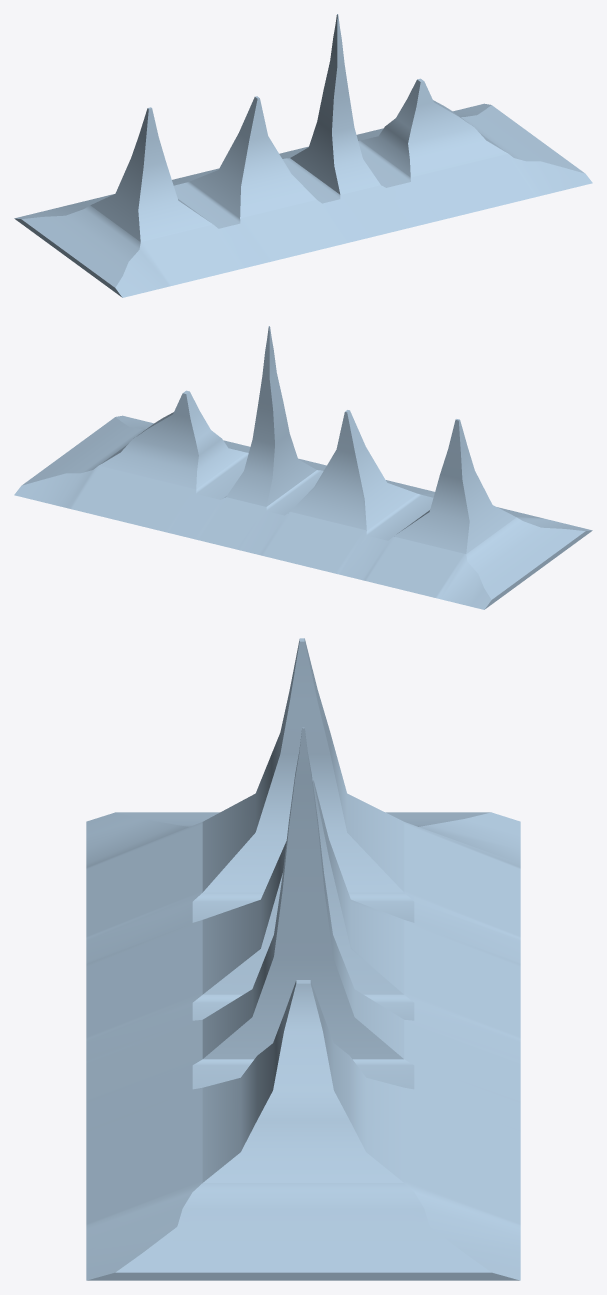
File: icicle02.fbx
The picture shows the model from 3 angles, top to bottom: view 1: azimuth 30°, elevation 25°; view 2: azimuth 150°, elevation 25°; view 3: azimuth 270°, elevation 25°; orthographic projection. The views are drawn at different scales.
Visible parts, largest first — view 1: pCube1; view 2: pCube1; view 3: pCube1.
Boxes of the visible parts, box(x1,y1,x2,y2) form: pCube1: box(14, 14, 592, 297); pCube1: box(14, 326, 592, 609); pCube1: box(86, 638, 520, 1280).
Size of the model in its own units: 186 by 67.25 by 74.33.
